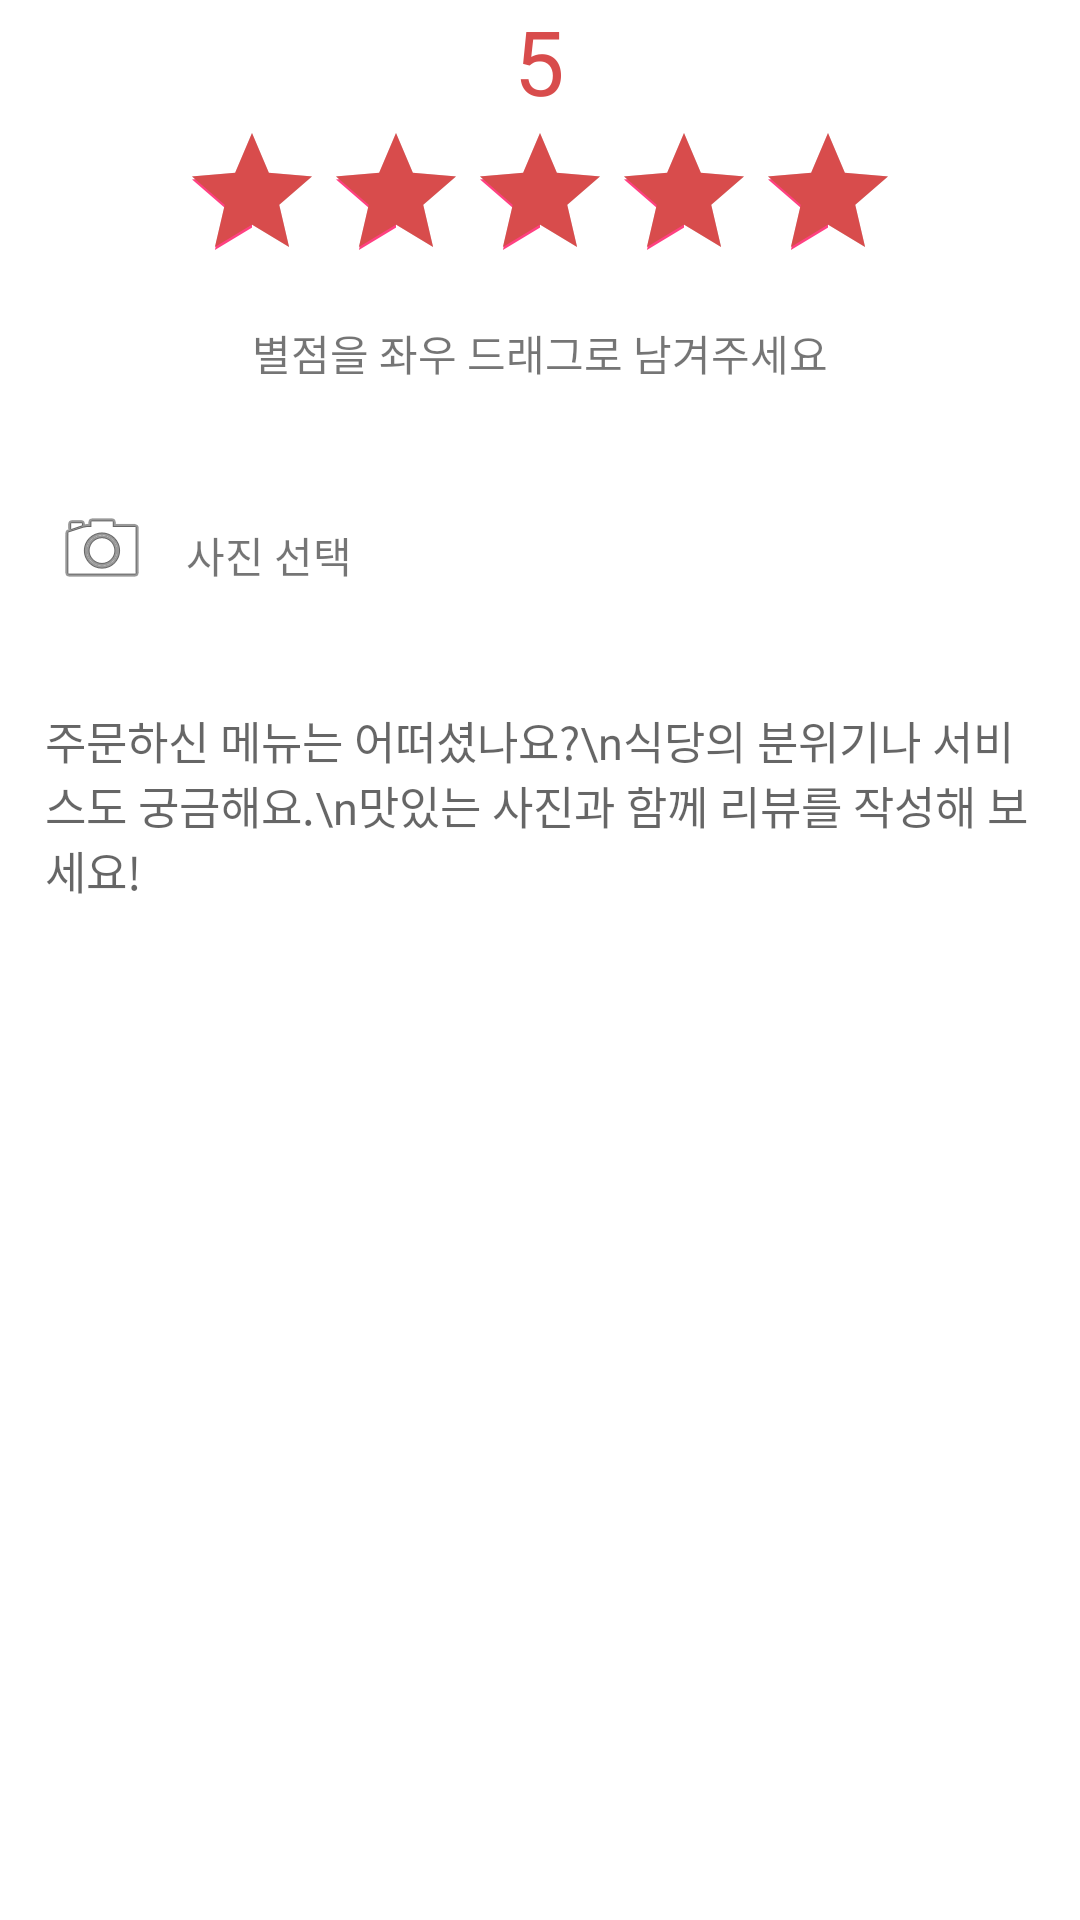

Named icons in this screenshot (1080 x 1920) and their bounding boxes, {"left": x1, "top": y1, "right": x2, "bottom": y2}:
camera: {"left": 65, "top": 518, "right": 139, "bottom": 577}
